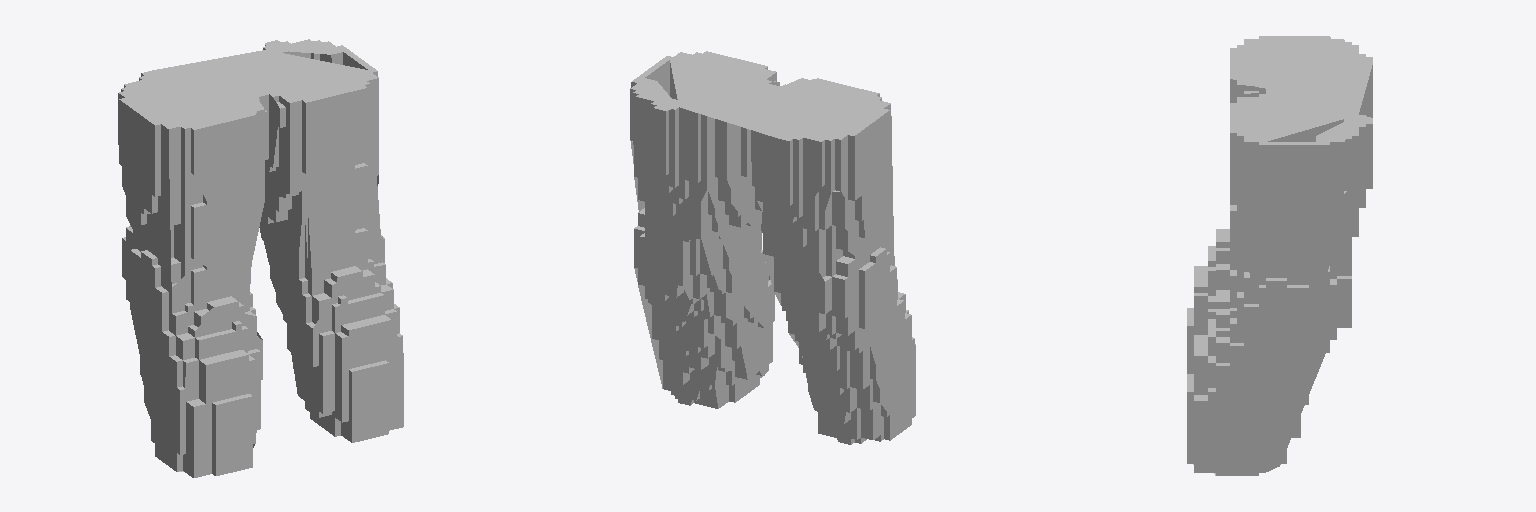
File: LegArmor_SteelplateGreaves.obj
3 views of the same model, side by side, from view 1: azimuth 30°, elevation 25°; view 2: azimuth 150°, elevation 25°; view 3: azimuth 270°, elevation 25° (orthographic).
Parts seen in each view (by area): view 1: LegArmor_SteelplateGreaves; view 2: LegArmor_SteelplateGreaves; view 3: LegArmor_SteelplateGreaves.
Boxes of the visible parts, <box> form: LegArmor_SteelplateGreaves: <box>118,39,403,477</box>; LegArmor_SteelplateGreaves: <box>630,51,915,444</box>; LegArmor_SteelplateGreaves: <box>1187,36,1372,475</box>.
Bounding box in the file's own units: 0.36 × 0.51 × 0.26.